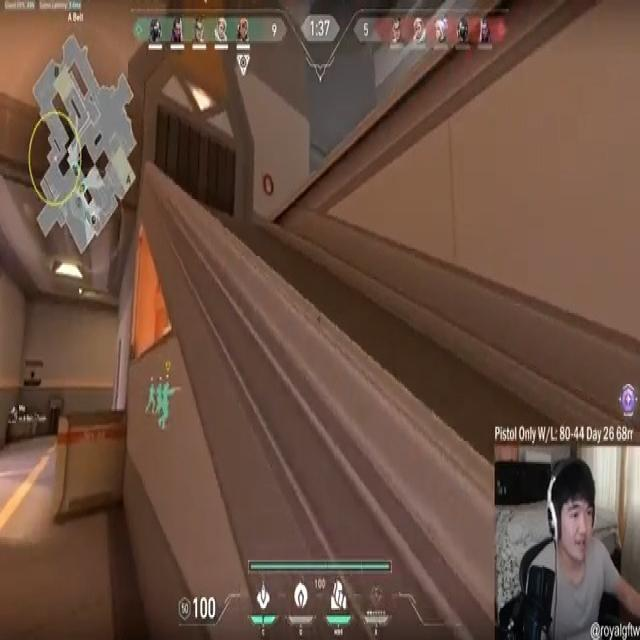ally behind wall: (159, 381, 183, 433), (144, 379, 155, 417), (156, 383, 162, 419)
